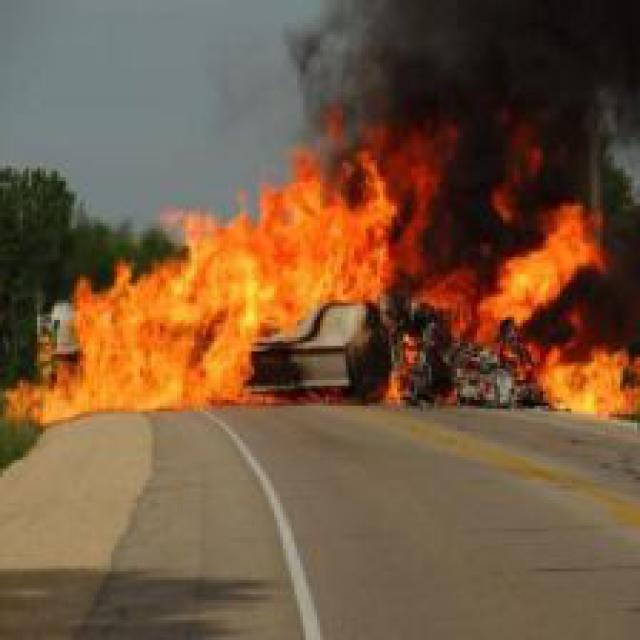fire: (6, 97, 408, 440), (417, 160, 637, 431)
